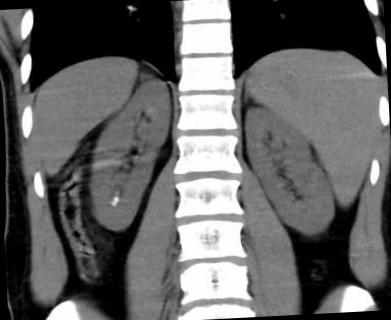Tas_Var: (111, 196, 120, 201), (111, 202, 118, 208)
